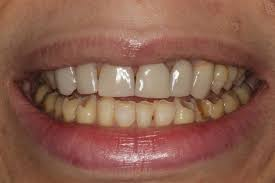normal: (134, 62, 169, 99), (97, 63, 134, 96), (193, 58, 212, 99), (75, 61, 96, 96), (170, 62, 190, 97), (151, 99, 175, 128), (53, 67, 77, 94), (115, 98, 136, 128), (136, 100, 153, 130), (220, 93, 238, 111), (233, 84, 249, 102), (54, 94, 64, 120)
rough: (96, 95, 115, 130), (76, 96, 95, 124), (64, 96, 79, 125), (176, 100, 194, 124), (193, 99, 211, 122), (213, 64, 224, 95), (224, 68, 236, 92)
yellow: (208, 100, 224, 119), (44, 93, 55, 114)
